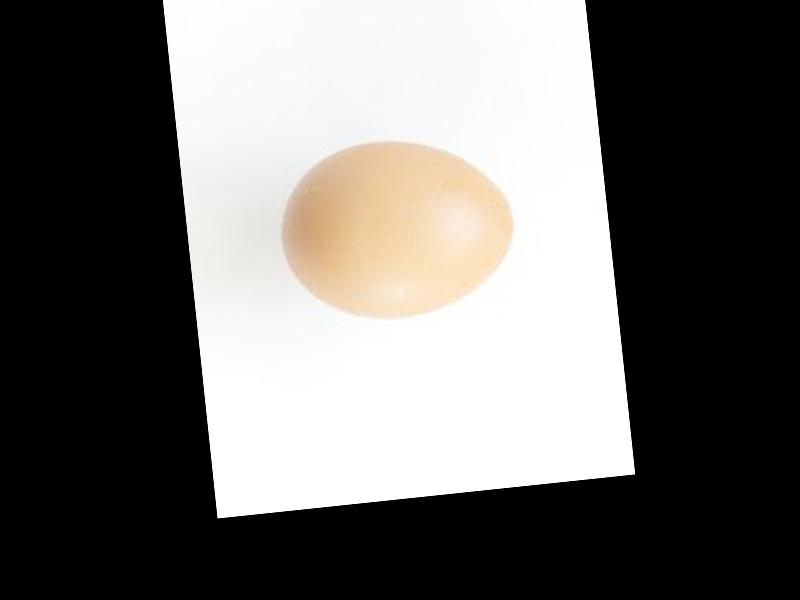Eggs: (269, 126, 525, 328)
